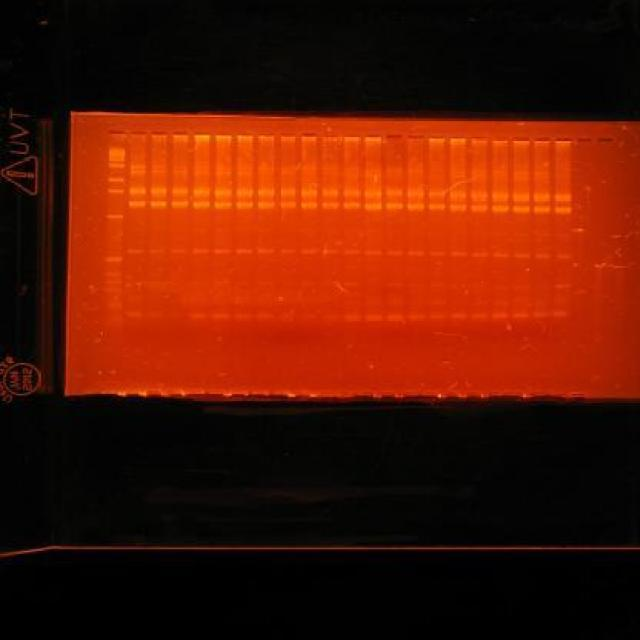B: (532, 192, 551, 202), (253, 312, 276, 320), (364, 202, 382, 212), (256, 201, 276, 210), (127, 187, 147, 196), (364, 188, 382, 198), (488, 312, 510, 320), (320, 313, 342, 321), (512, 204, 531, 213), (234, 201, 253, 210), (149, 187, 168, 196), (492, 204, 510, 213), (470, 204, 488, 213), (406, 203, 424, 212), (320, 202, 340, 210), (490, 192, 510, 200), (406, 190, 426, 198), (342, 189, 362, 197), (320, 188, 340, 196), (386, 314, 406, 322), (530, 312, 550, 320), (510, 312, 530, 320), (124, 310, 144, 318), (210, 312, 230, 320), (146, 312, 166, 320), (533, 206, 552, 214), (448, 204, 467, 212), (299, 202, 318, 210), (278, 202, 297, 210), (512, 193, 531, 201), (235, 189, 254, 197), (278, 188, 297, 196), (188, 312, 207, 320), (234, 247, 253, 255), (233, 312, 252, 320), (256, 279, 275, 287), (214, 202, 232, 210), (554, 206, 572, 214), (428, 203, 446, 211), (385, 202, 403, 210), (342, 202, 360, 210), (554, 193, 572, 201), (470, 192, 488, 200), (428, 190, 446, 198), (450, 192, 468, 200), (386, 189, 404, 197), (300, 189, 318, 197), (406, 313, 424, 321), (365, 314, 383, 322), (212, 248, 232, 255), (300, 247, 317, 255), (340, 281, 362, 287), (258, 188, 274, 196), (278, 248, 296, 255), (146, 248, 166, 254), (554, 253, 574, 259), (470, 252, 490, 258), (550, 311, 570, 317), (191, 248, 211, 254), (448, 314, 468, 320), (343, 248, 360, 255), (192, 202, 211, 208), (126, 248, 145, 254), (513, 253, 532, 259), (428, 251, 447, 257), (343, 314, 362, 320), (128, 200, 146, 206), (192, 188, 210, 194), (214, 190, 232, 196), (554, 283, 572, 289), (534, 253, 552, 259), (492, 252, 510, 258), (450, 251, 468, 257), (406, 250, 424, 256), (386, 250, 404, 256), (364, 250, 382, 256), (428, 314, 446, 320), (386, 282, 404, 288), (150, 201, 167, 207), (169, 248, 186, 254), (257, 248, 274, 254), (470, 314, 487, 320), (172, 201, 188, 207), (172, 188, 188, 194), (322, 250, 338, 256), (279, 168, 296, 172), (556, 234, 572, 238), (533, 171, 552, 174), (512, 176, 530, 179), (300, 172, 318, 175), (512, 173, 530, 176), (512, 171, 530, 174), (470, 175, 488, 178), (470, 172, 488, 175), (258, 166, 276, 169), (150, 165, 168, 168), (554, 176, 572, 179), (364, 173, 382, 176), (130, 171, 147, 174), (129, 165, 146, 168), (534, 176, 551, 179), (533, 174, 550, 177), (193, 171, 210, 174), (300, 166, 317, 169), (386, 172, 403, 175), (450, 174, 467, 177), (343, 167, 360, 170), (151, 170, 167, 173), (322, 167, 338, 170), (151, 167, 167, 170), (386, 170, 402, 173), (386, 167, 402, 170), (174, 170, 188, 173), (214, 172, 232, 174), (470, 170, 488, 172), (129, 168, 146, 170), (300, 170, 317, 172), (279, 172, 296, 174), (322, 172, 338, 174), (492, 176, 508, 178), (258, 172, 274, 174), (258, 170, 274, 172), (238, 172, 253, 174)
L: (99, 124, 618, 148)
M: (102, 147, 126, 333)
P: (104, 314, 124, 328), (105, 301, 124, 310), (106, 188, 125, 194), (105, 214, 124, 220), (104, 256, 122, 262), (105, 286, 122, 292), (105, 278, 122, 284), (108, 162, 124, 168), (108, 156, 124, 162), (108, 177, 124, 183), (105, 272, 122, 276)
Pc: (278, 130, 297, 141), (343, 130, 360, 142), (214, 129, 232, 140), (258, 130, 276, 141), (236, 129, 253, 140), (129, 128, 146, 138), (172, 130, 190, 139), (490, 134, 510, 142), (320, 132, 340, 140), (194, 130, 211, 139), (449, 133, 466, 142), (106, 128, 125, 136), (533, 136, 552, 144), (512, 135, 531, 143), (150, 130, 168, 138), (574, 138, 592, 146), (554, 137, 572, 145), (470, 134, 488, 142), (428, 134, 446, 142), (406, 133, 424, 141), (386, 133, 404, 141), (364, 132, 382, 140), (300, 132, 318, 140), (596, 136, 613, 144)
